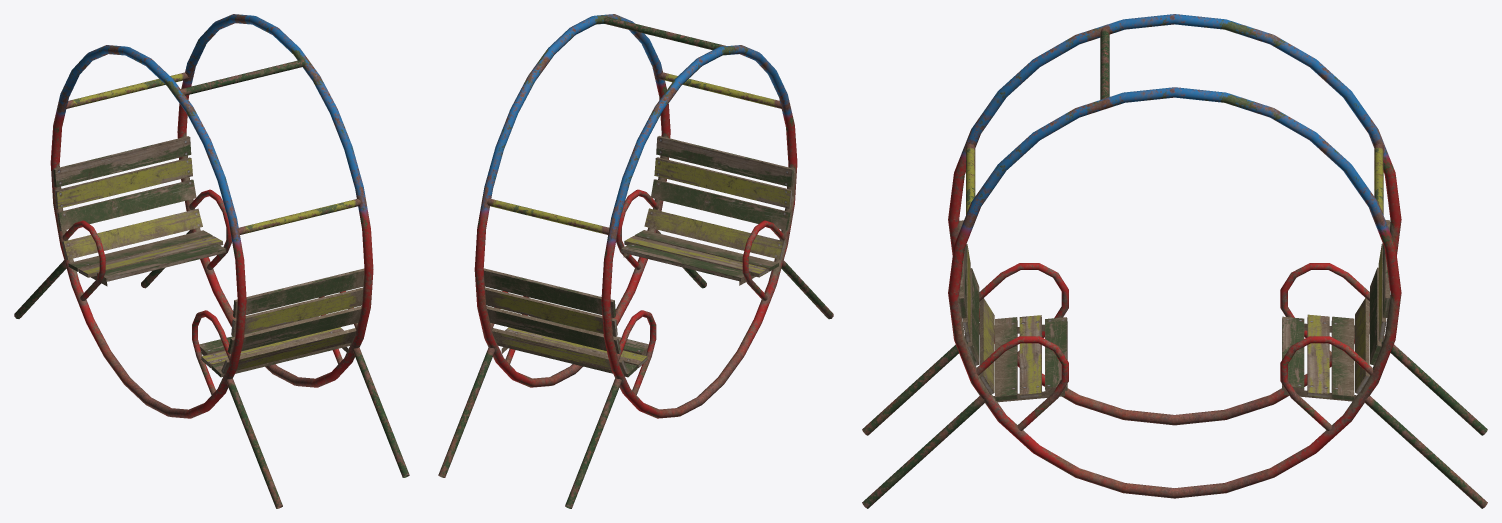
The model's file is abench.gltf.
The picture shows the model from 3 angles, left to right: view 1: azimuth 30°, elevation 25°; view 2: azimuth 150°, elevation 25°; view 3: azimuth 270°, elevation 25°; orthographic projection. The views are drawn at different scales.
Visible parts, largest first — view 1: bench_bench_mat_0; view 2: bench_bench_mat_0; view 3: bench_bench_mat_0.
Part boxes in pixels (x1,y1,x2,y2): bench_bench_mat_0: [14, 14, 409, 508]; bench_bench_mat_0: [438, 14, 833, 508]; bench_bench_mat_0: [862, 14, 1487, 508].
Bounding box in the file's own units: 1.01 × 2.52 × 3.4.
1 material, 1 textured.
